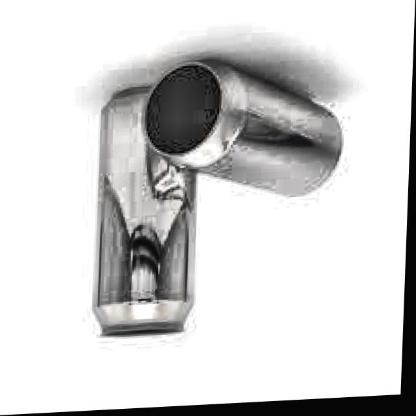Can: (141, 57, 343, 198), (92, 83, 196, 342)
